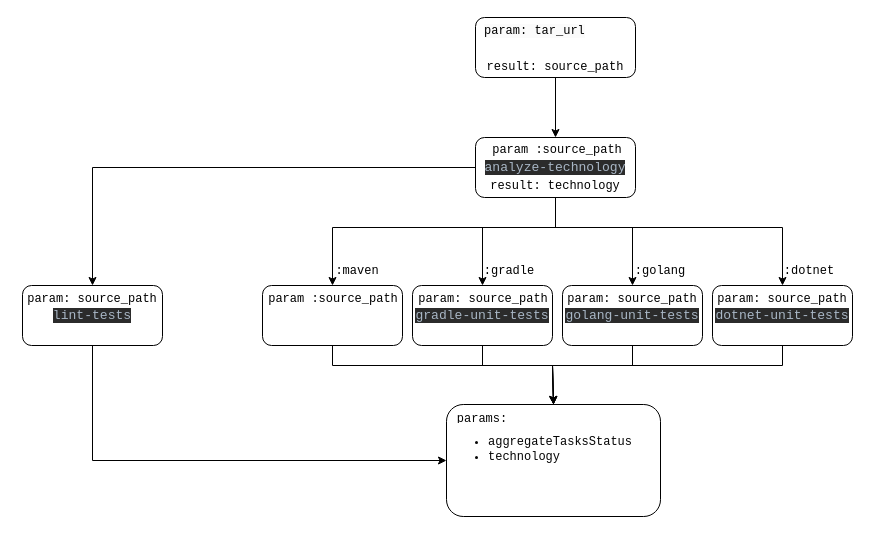
This 881x534 diagram has some shape labels left out. Each missing label, with the box of its shape:
clone-unpack-tar: (474, 16, 636, 78)
maven-unit-tests: (262, 284, 402, 346)
tests-results: (446, 404, 660, 516)
